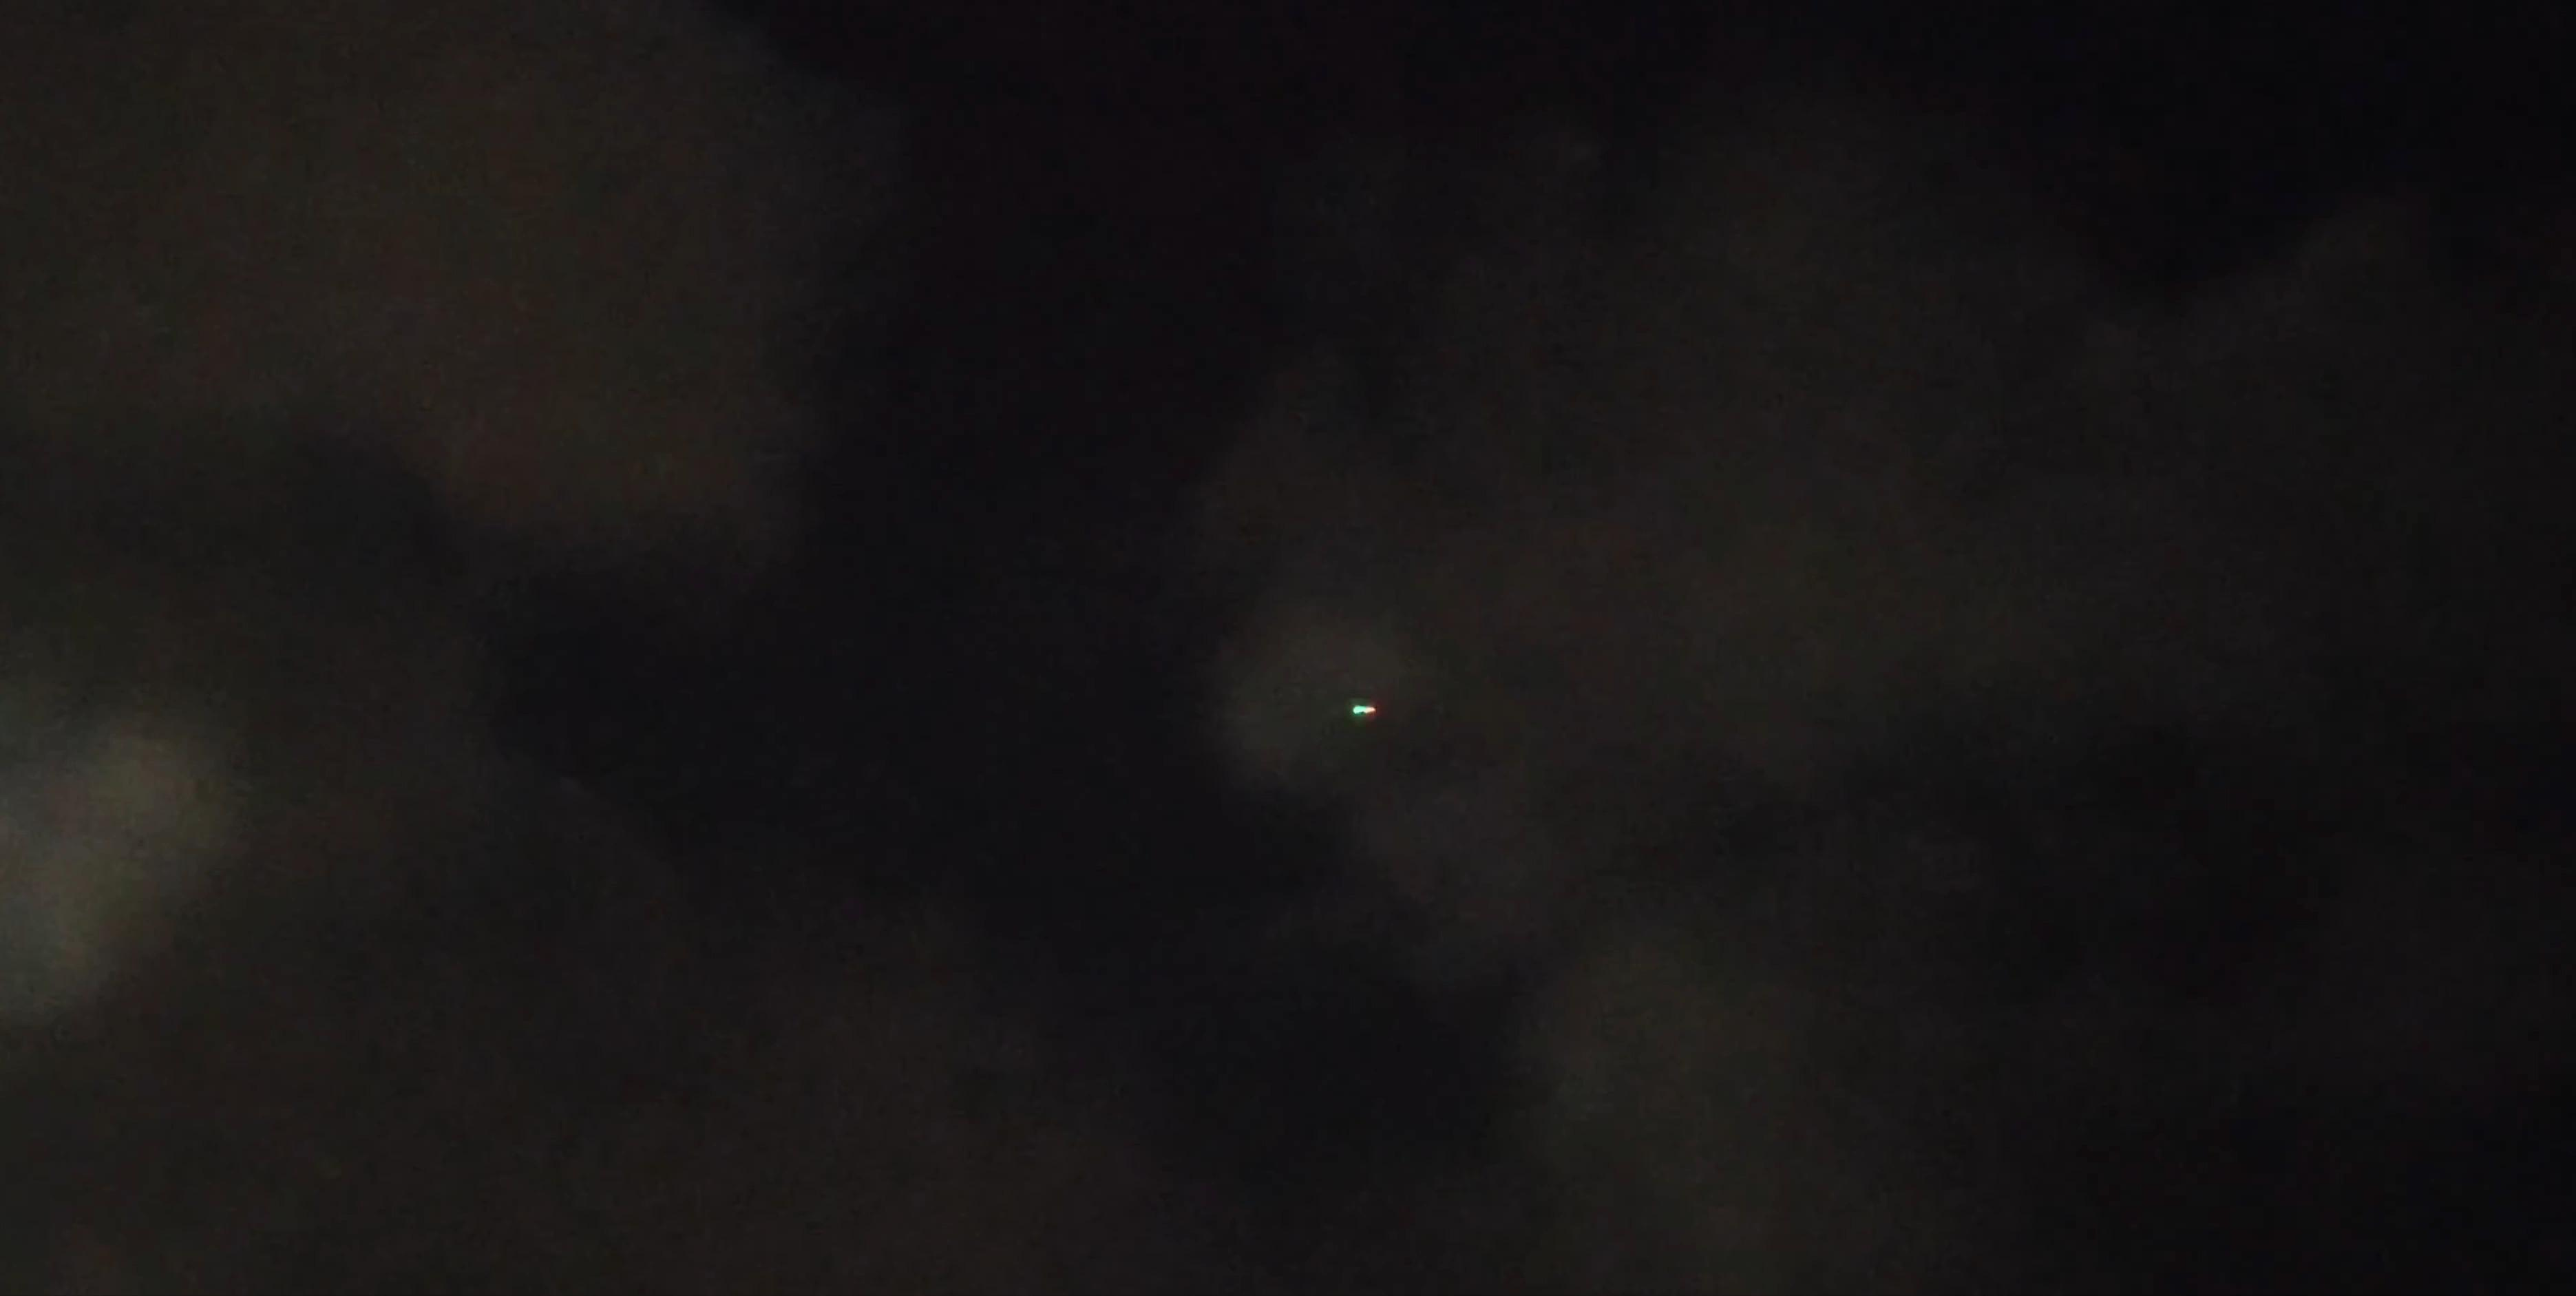Plane: (1332, 694, 1395, 727)
